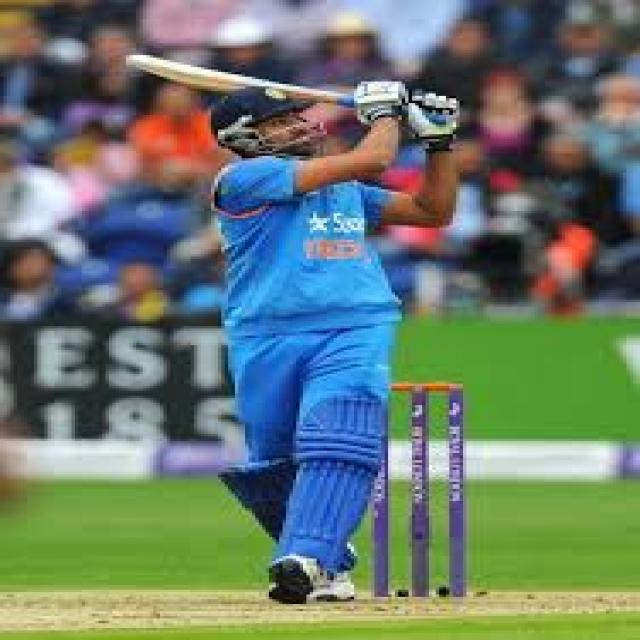toe: (114, 49, 151, 72)
